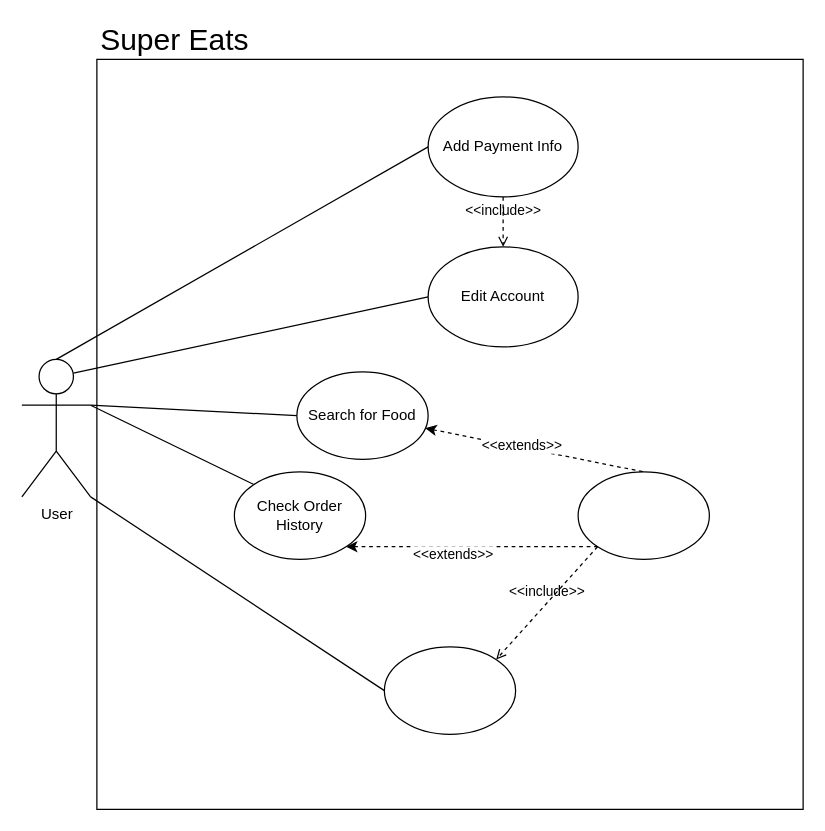
This 825x831 diagram has some shape labels left out. Each missing label, with the centre of its shape:
"Create Order" belongs at [643,515].
"View Notifications" belongs at [449,690].
